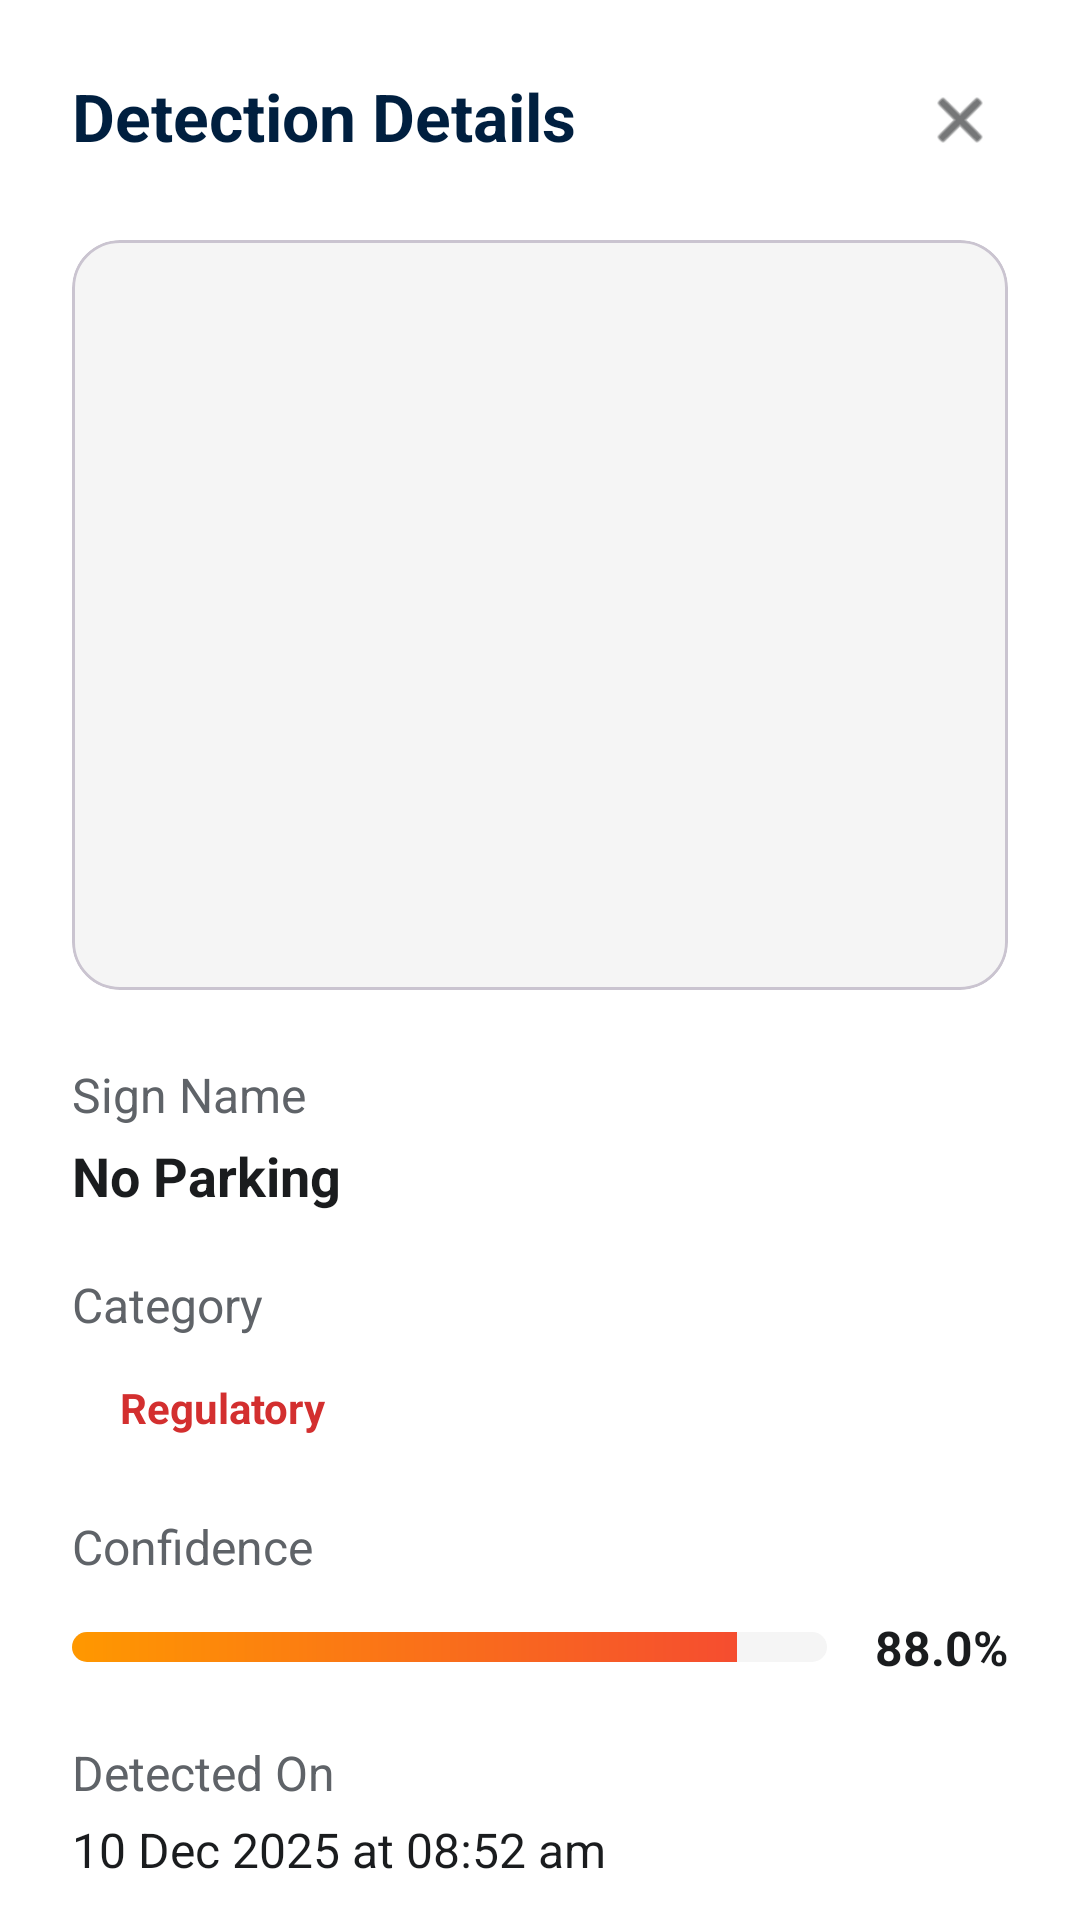

Point at icon controls on the screen. Image size 1080*1920, points as (x=x, y=y).
close clear cancel: (x=960, y=120)
